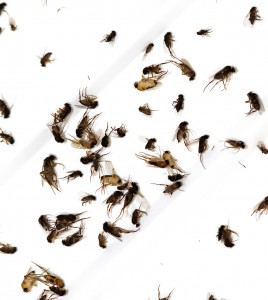phorid fly: (203, 59, 240, 96), (35, 149, 62, 195), (193, 132, 216, 173), (212, 222, 242, 251), (243, 89, 266, 122), (171, 57, 199, 84), (47, 99, 72, 125), (172, 120, 191, 153), (149, 181, 187, 197), (61, 228, 88, 250), (130, 77, 167, 93), (241, 5, 266, 27), (222, 134, 247, 156), (34, 48, 58, 70), (76, 87, 100, 109), (128, 207, 149, 229), (136, 40, 157, 60), (98, 28, 120, 47), (35, 210, 53, 233), (137, 102, 162, 118), (192, 23, 216, 39), (170, 92, 186, 115), (141, 64, 171, 76), (163, 30, 177, 55), (65, 168, 85, 185), (113, 123, 130, 141), (78, 192, 97, 208), (142, 134, 159, 150), (255, 139, 268, 158), (95, 234, 110, 250)
